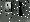person: (6, 4, 13, 17), (17, 3, 22, 17)
